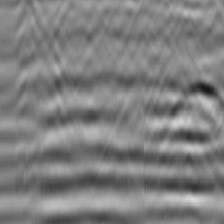Utility: (169, 77, 224, 118)
